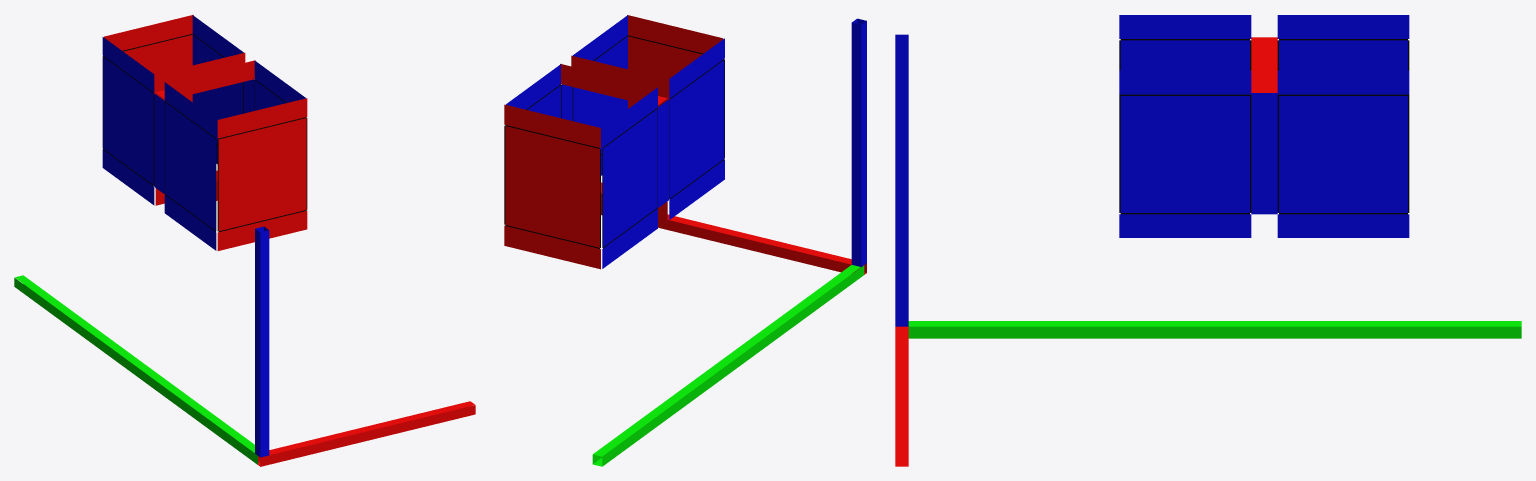
3 renders of one model, left to right at view 1: azimuth 30°, elevation 25°; view 2: azimuth 150°, elevation 25°; view 3: azimuth 270°, elevation 25°, orthographic. The views are drawn at different scales.
Parts seen in each view (by area): view 1: spider(0, 1, 1):-J, spider(0, 1, 1):-I, spider(0, 2, 1):-I, axisJ:-I, axisK:-J, axisJ:+K, axisI:-J, edgeJ(0, 1, 1):-I (×2), spider(0, 2, 1):+I, spider(0, 2, 1):+J, edgeK(0, 1, 1):-J, edgeK(0, 1, 0):-J (+11 smaller); view 2: spider(0, 2, 1):+J, spider(0, 1, 1):-I, spider(0, 2, 1):-I, axisJ:-I, axisK:+J, axisJ:+K, edgeJ(0, 1, 1):-I (×2), spider(0, 1, 1):+I, spider(0, 1, 1):-J, axisI:+J, edgeJ(0, 2, 1):+J, edgeJ(0, 2, 0):+J (+11 smaller); view 3: spider(0, 1, 1):+I, spider(0, 2, 1):+I, axisJ:+I, edgeJ(0, 1, 1):+I (×2), spider(0, 1, 1):-I, spider(0, 2, 1):-I, axisK:+I, axisJ:+K, edgeJ(0, 2, 1):+I, edgeJ(0, 1, 0):+I, edgeJ(0, 1, 1):-I, edgeJ(0, 2, 0):+I (+3 smaller).
Boxes of the visible parts, x1=… form: spider(0, 1, 1):-J: x1=217, y1=117, x2=307, y2=231; spider(0, 1, 1):-I: x1=164, y1=101, x2=216, y2=231; spider(0, 2, 1):-I: x1=102, y1=56, x2=154, y2=185; axisJ:-I: x1=14, y1=278, x2=257, y2=464; axisK:-J: x1=260, y1=230, x2=269, y2=457; axisJ:+K: x1=15, y1=275, x2=254, y2=452; axisI:-J: x1=260, y1=405, x2=475, y2=466; edgeJ(0, 1, 1):-I (×2): x1=154, y1=82, x2=216, y2=193; spider(0, 2, 1):+I: x1=192, y1=34, x2=243, y2=145; spider(0, 2, 1):+J: x1=123, y1=34, x2=192, y2=101; edgeK(0, 1, 1):-J: x1=217, y1=98, x2=307, y2=138; edgeK(0, 1, 0):-J: x1=217, y1=211, x2=307, y2=250; spider(0, 2, 1):+J: x1=504, y1=125, x2=600, y2=248; spider(0, 1, 1):-I: x1=669, y1=59, x2=724, y2=199; spider(0, 2, 1):-I: x1=602, y1=108, x2=657, y2=248; axisJ:-I: x1=602, y1=265, x2=864, y2=466; axisK:+J: x1=851, y1=22, x2=861, y2=266; axisJ:+K: x1=593, y1=265, x2=860, y2=456; edgeJ(0, 1, 1):-I (×2): x1=658, y1=38, x2=724, y2=207; spider(0, 1, 1):+I: x1=572, y1=35, x2=627, y2=155; spider(0, 1, 1):-J: x1=628, y1=35, x2=703, y2=108; axisI:+J: x1=658, y1=218, x2=860, y2=273; edgeJ(0, 2, 1):+J: x1=504, y1=104, x2=600, y2=147; edgeJ(0, 2, 0):+J: x1=504, y1=225, x2=600, y2=269; spider(0, 1, 1):+I: x1=1119, y1=94, x2=1251, y2=214; spider(0, 2, 1):+I: x1=1277, y1=94, x2=1409, y2=214; axisJ:+I: x1=908, y1=327, x2=1521, y2=338; edgeJ(0, 1, 1):+I (×2): x1=1119, y1=70, x2=1277, y2=214; spider(0, 1, 1):-I: x1=1119, y1=39, x2=1251, y2=95; spider(0, 2, 1):-I: x1=1277, y1=39, x2=1409, y2=95; axisK:+I: x1=895, y1=40, x2=908, y2=326; axisJ:+K: x1=908, y1=321, x2=1521, y2=326; edgeJ(0, 2, 1):+I: x1=1277, y1=70, x2=1409, y2=94; edgeJ(0, 1, 0):+I: x1=1119, y1=214, x2=1251, y2=237; edgeJ(0, 1, 1):-I: x1=1119, y1=15, x2=1251, y2=38; edgeJ(0, 2, 0):+I: x1=1277, y1=214, x2=1409, y2=237.
Bounding box in the file's own units: 2.4 × 2.9 × 4.75.
